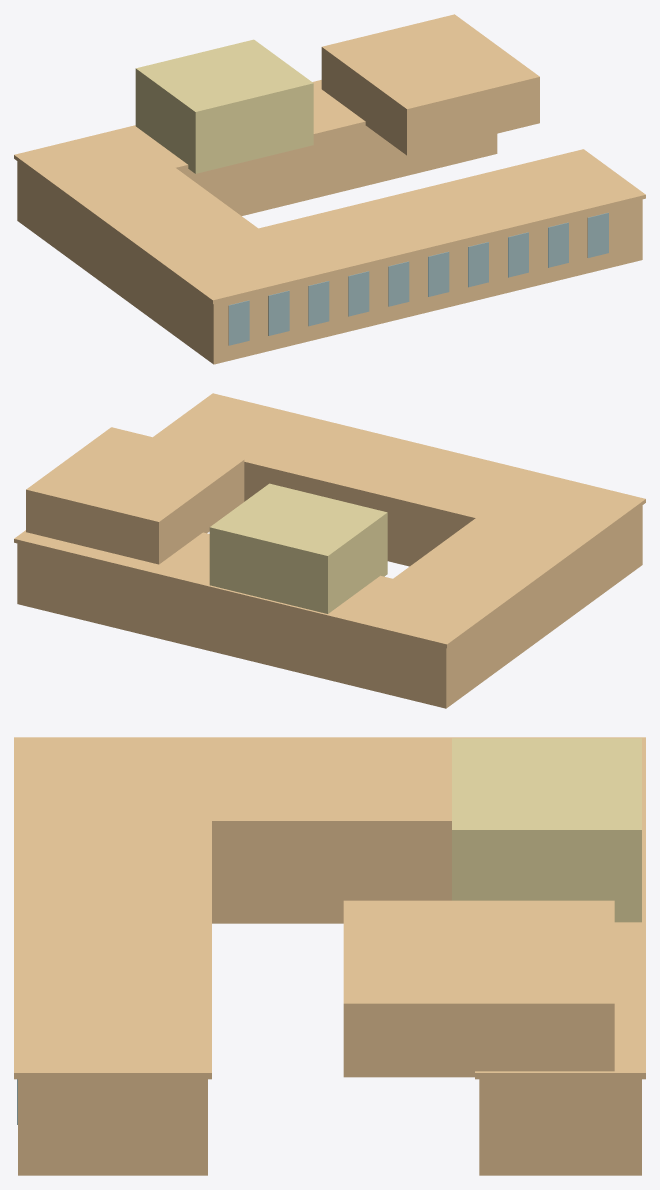
The model's file is modelo.glb.
The picture shows the model from 3 angles, top to bottom: view 1: azimuth 30°, elevation 25°; view 2: azimuth 150°, elevation 25°; view 3: azimuth 270°, elevation 25°; orthographic projection. The views are drawn at different scales.
Parts seen in each view (by area): view 1: locales_frente_cornisa, locales_frente, oficina_B, oficina_A, ala_izquierda_cornisa, ala_fondo, vano_referencial (×10), ala_izquierda, ala_fondo_cornisa; view 2: locales_frente_cornisa, oficina_B, ala_fondo, oficina_A, ala_izquierda_cornisa, ala_izquierda, locales_frente, ala_fondo_cornisa; view 3: locales_frente_cornisa, oficina_B, oficina_A, ala_izquierda_cornisa, ala_izquierda, locales_frente, ala_fondo, ala_fondo_cornisa.
Boxes of the visible parts, x1,y1,x2,y2 form: locales_frente_cornisa: [150, 149, 645, 303]; locales_frente: [154, 199, 642, 364]; oficina_B: [321, 14, 539, 155]; oficina_A: [135, 39, 313, 173]; ala_izquierda_cornisa: [14, 128, 257, 259]; ala_fondo: [180, 125, 497, 215]; vano_referencial (×10): [228, 212, 608, 345]; ala_izquierda: [17, 161, 153, 320]; ala_fondo_cornisa: [122, 80, 365, 170]; locales_frente_cornisa: [153, 393, 645, 545]; oficina_B: [26, 427, 244, 564]; ala_fondo: [17, 543, 342, 683]; oficina_A: [209, 483, 387, 613]; ala_izquierda_cornisa: [339, 518, 586, 648]; ala_izquierda: [342, 549, 582, 708]; locales_frente: [244, 465, 642, 608]; ala_fondo_cornisa: [14, 530, 396, 621]; locales_frente_cornisa: [14, 737, 211, 1079]; oficina_B: [343, 900, 614, 1077]; oficina_A: [452, 738, 641, 922]; ala_izquierda_cornisa: [204, 737, 645, 826]; ala_izquierda: [212, 827, 451, 923]; locales_frente: [18, 1079, 207, 1175]; ala_fondo: [479, 1079, 641, 1175]; ala_fondo_cornisa: [475, 817, 645, 1079].
Size of the model in its own units: 29.3 by 8 by 23.3.
